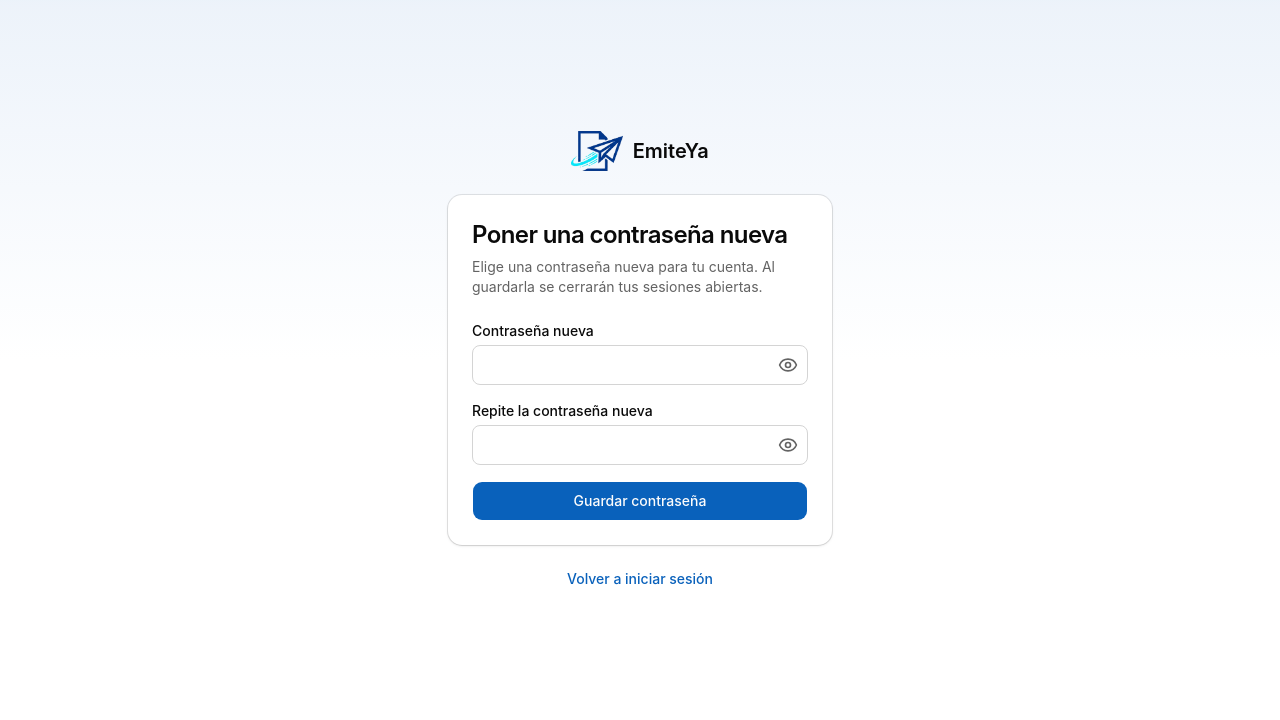
Test: poner una contraseña nueva › usa el token del enlace, lo quita de la dirección y avisa que cerró las sesiones
Expected: the heading "Poner una contraseña nueva" is shown, [472,219,808,251]
Type "contrasena-nueva-1" into the password field labelled "Contraseña nueva".
click(640, 365); type("contrasena-nueva-1")  # box [472,345,808,385]
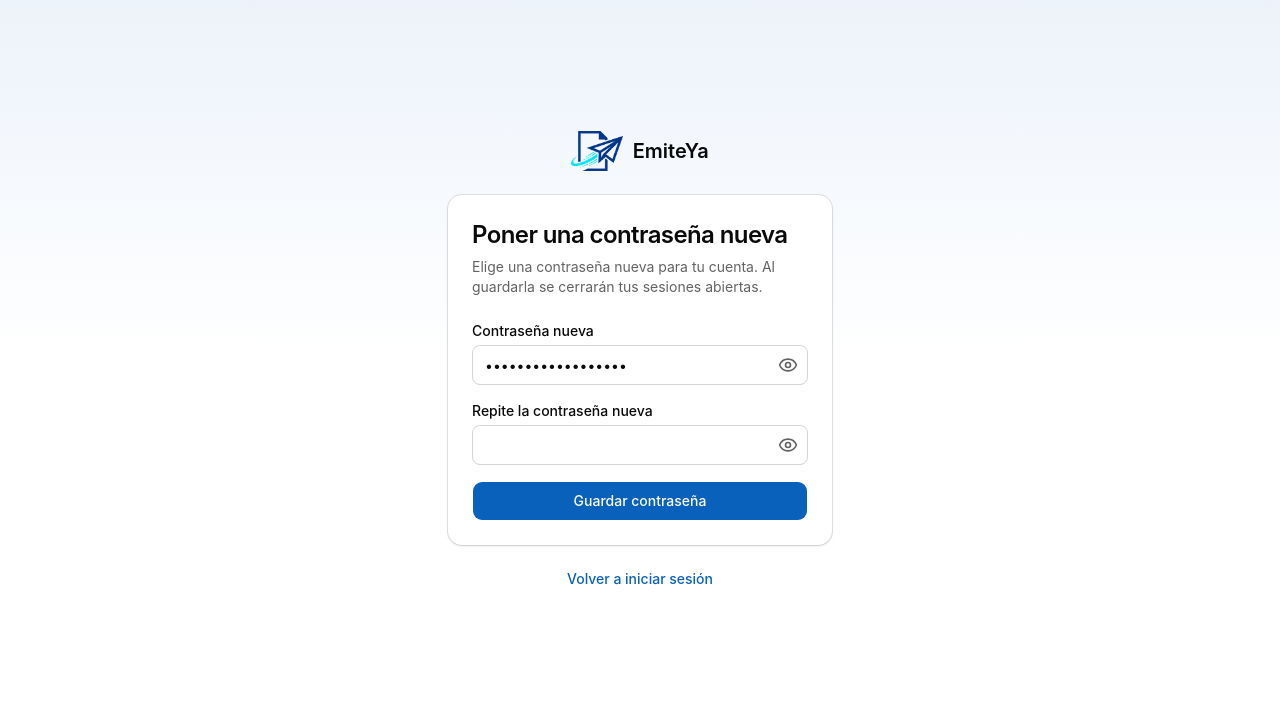
Type "contrasena-nueva-1" into the password field labelled "Repite la contraseña nueva".
click(640, 445); type("contrasena-nueva-1")  # box [472,425,808,465]
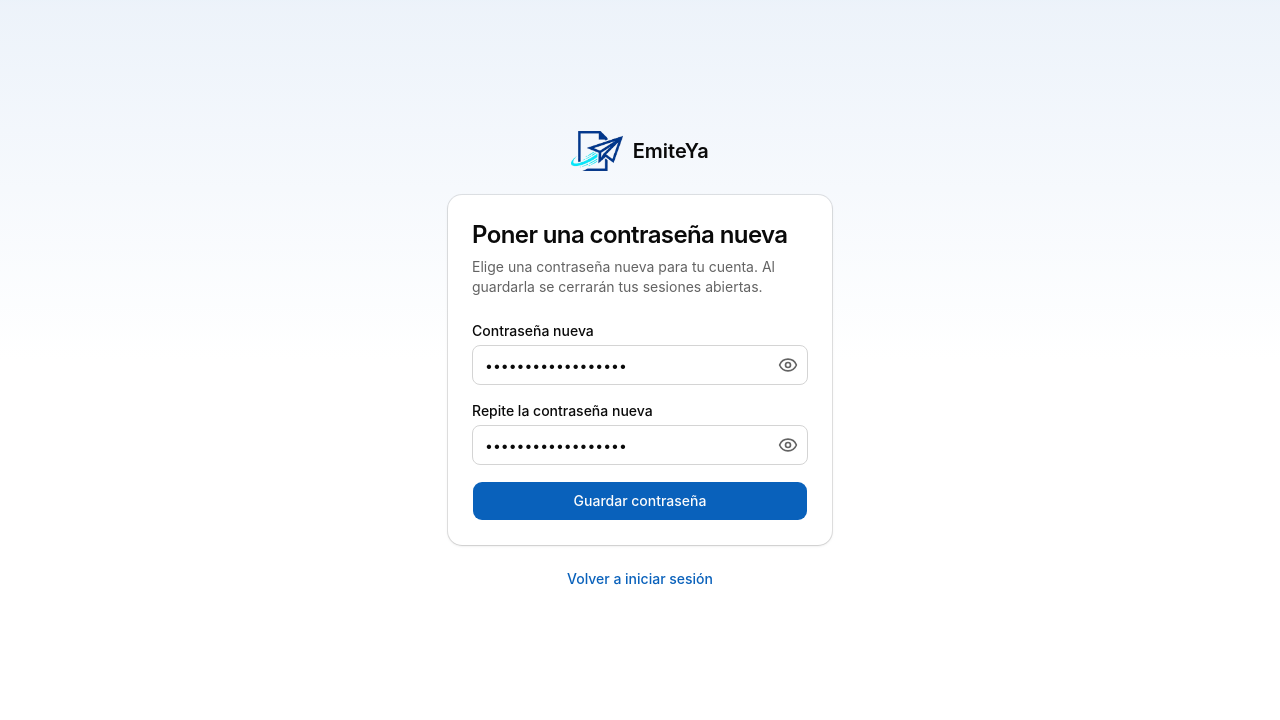
Click the button "Guardar contraseña".
click(640, 501)  # box [472,481,808,521]
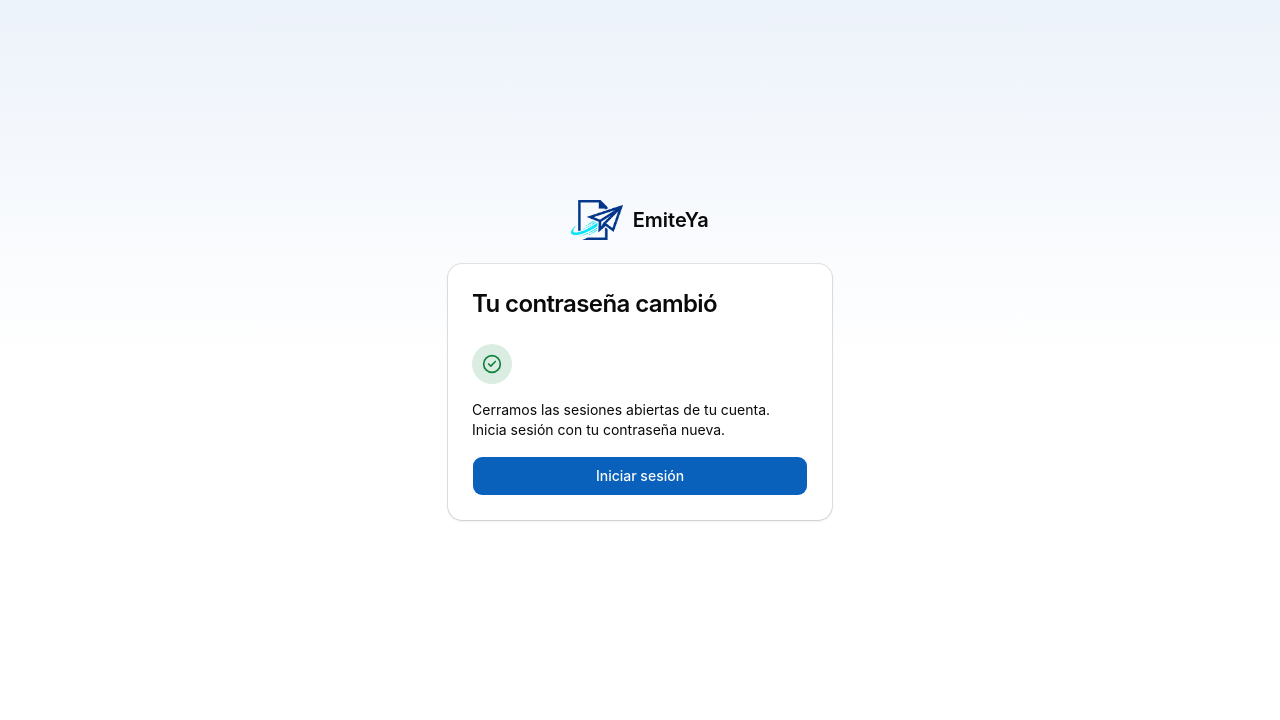
Now the heading "Tu contraseña cambió" is shown, box [472,289,717,318]
Now the message shows "Cerramos las sesiones abiertas", box [472,401,770,438]
